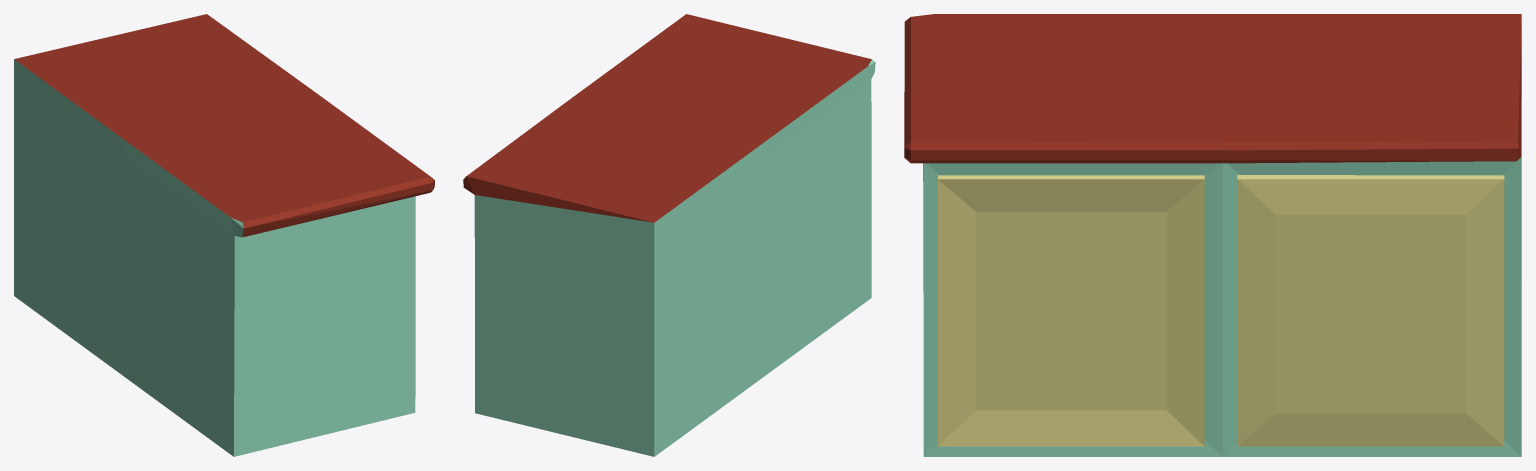
Rendered from Counter w shelves.fbx.
3 renders of one model, left to right at view 1: azimuth 30°, elevation 25°; view 2: azimuth 150°, elevation 25°; view 3: azimuth 270°, elevation 25°, orthographic. The views are drawn at different scales.
Parts seen in each view (by area): view 1: Counter w shelves; view 2: Counter w shelves; view 3: Counter w shelves, Door.001, Door.
Boxes of the visible parts, x1=… form: Counter w shelves: x1=14, y1=14, x2=434, y2=456; Counter w shelves: x1=463, y1=14, x2=875, y2=456; Counter w shelves: x1=904, y1=14, x2=1521, y2=456; Door.001: x1=1237, y1=175, x2=1504, y2=446; Door: x1=938, y1=175, x2=1204, y2=446.
Size of the model in its own units: 216 by 249 by 433.
